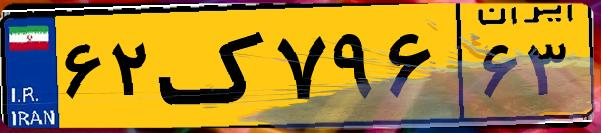2: (110, 28, 158, 98)
3: (525, 38, 570, 115)
6: (385, 28, 445, 110), (57, 26, 110, 100), (475, 38, 525, 113)
7: (270, 28, 330, 110)
9: (330, 28, 385, 110)
ک: (158, 12, 270, 120)
